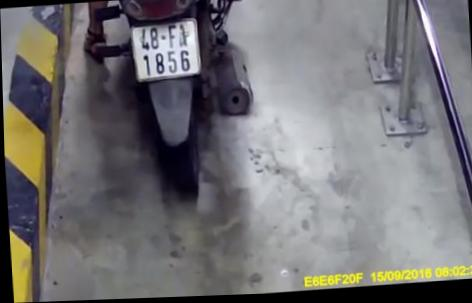LP: (129, 20, 201, 84)
